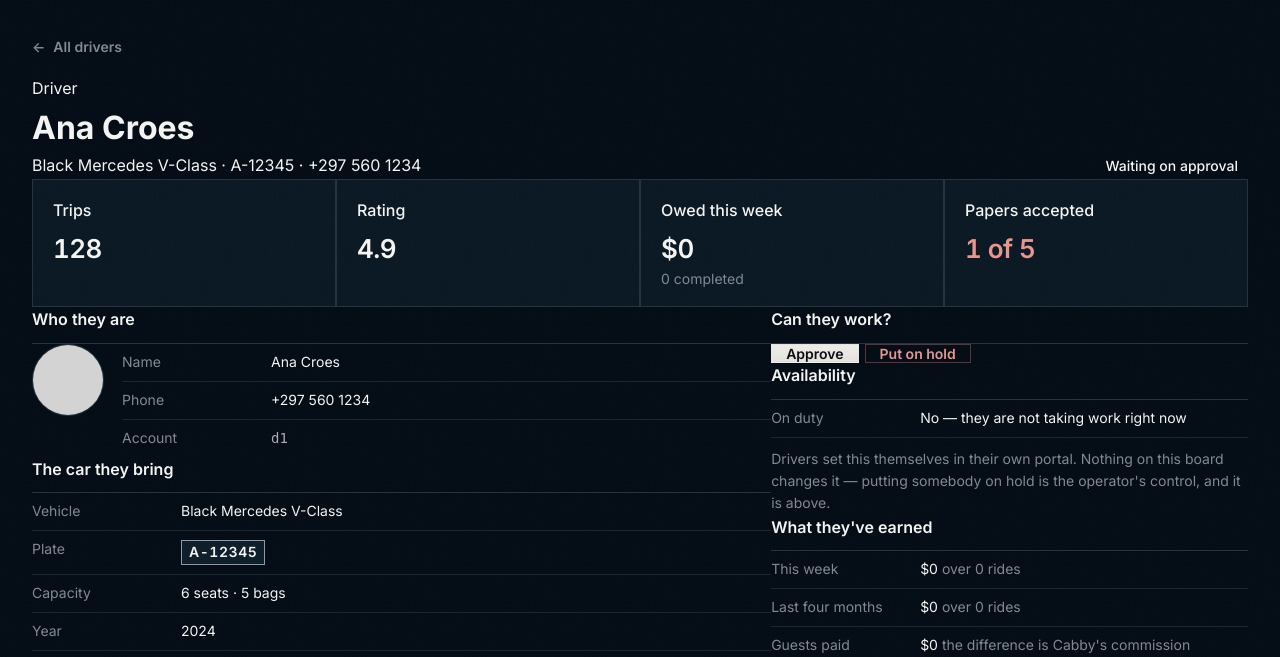
a driver's own page › says what is outstanding at the moment of approval without blocking it
Click the button "Approve" at (815, 354), box [771,344,858,363]
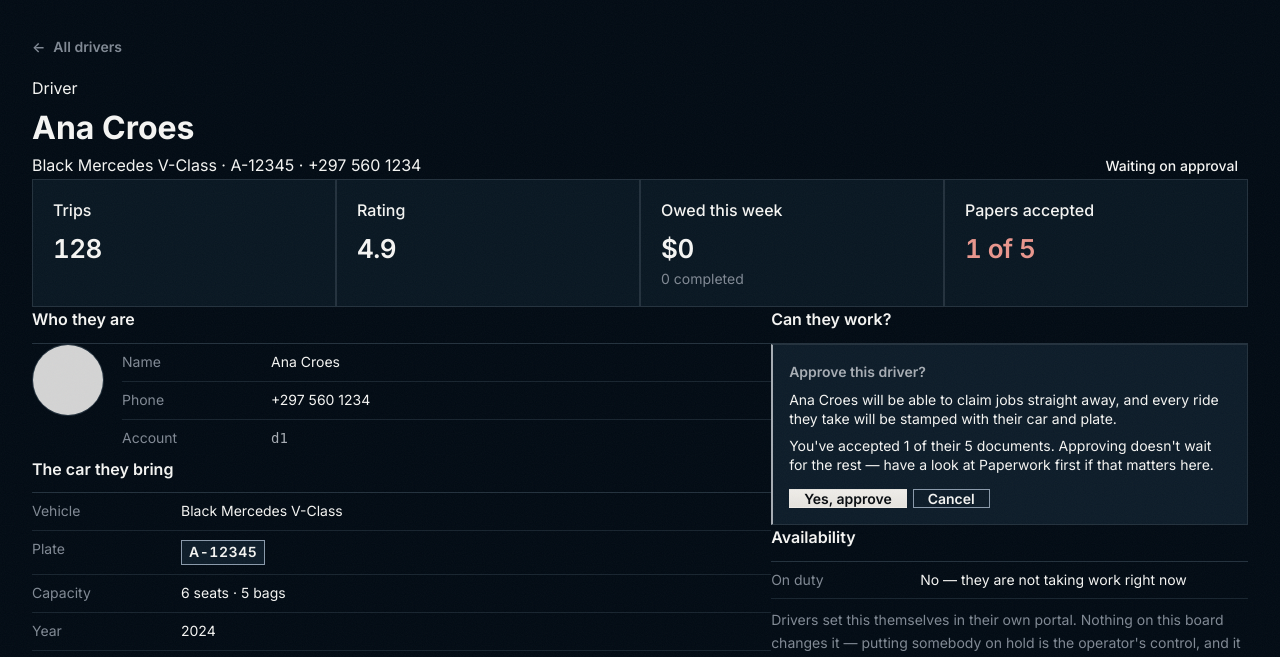
Expected: the button "Yes, approve" is enabled, [789,489,907,508]
Expected: the text "accepted 1 of their 5 documents" is shown, [789,437,1231,475]
